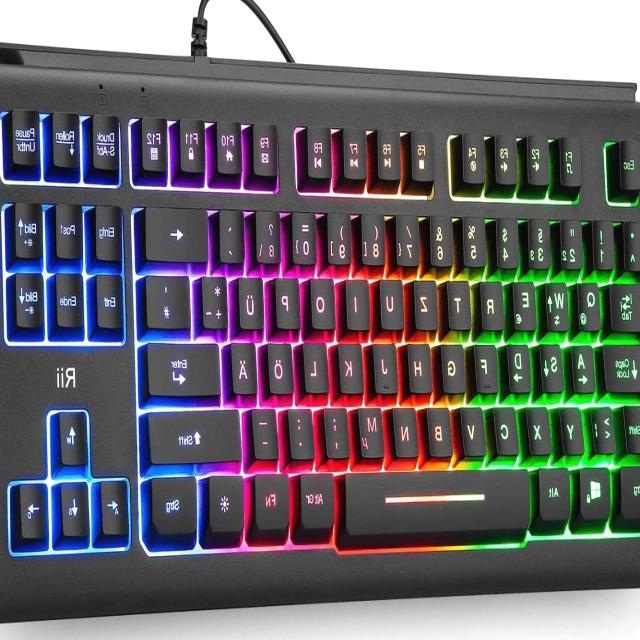0: (293, 206, 320, 264)
1: (594, 217, 616, 269)
2: (561, 214, 585, 270)
3: (528, 213, 554, 269)
4: (496, 212, 521, 268)
5: (462, 210, 488, 266)
6: (430, 210, 456, 266)
7: (397, 208, 423, 266)
8: (362, 207, 389, 265)
9: (328, 206, 355, 264)
a: (573, 339, 597, 391)
accent: (220, 203, 247, 261)
ae: (232, 337, 259, 393)
alt-left: (540, 462, 573, 520)
altgr-right: (302, 466, 338, 528)
b: (428, 401, 455, 454)
c: (495, 401, 521, 453)
caret: (625, 217, 640, 270)
comma: (325, 402, 352, 456)
d: (508, 340, 534, 392)
del: (145, 203, 213, 261)
e: (515, 277, 539, 330)
enter: (148, 338, 224, 396)
f: (476, 340, 500, 392)
g: (443, 339, 468, 392)
h: (409, 338, 435, 391)
hash: (147, 270, 193, 329)
i: (347, 273, 373, 327)
j: (374, 337, 400, 392)
k: (340, 337, 366, 392)
keyboard: (0, 38, 640, 630)
l: (305, 336, 331, 391)
less: (593, 401, 618, 451)
m: (360, 401, 388, 457)
minus: (253, 403, 281, 457)
n: (395, 401, 422, 455)
o: (312, 273, 338, 327)
oe: (269, 338, 296, 393)
p: (277, 272, 303, 327)
plus: (204, 271, 231, 327)
point: (290, 402, 316, 457)
q: (579, 278, 603, 330)
r: (482, 276, 506, 329)
s: (541, 339, 566, 391)
shift-left: (625, 399, 640, 451)
shift-lock: (604, 339, 640, 391)
shift-right: (149, 404, 243, 463)
space: (345, 461, 533, 536)
ss: (257, 205, 284, 264)
strg-left: (622, 460, 640, 518)
strg-right: (151, 471, 200, 536)
t: (449, 275, 473, 328)
tab: (610, 279, 640, 331)
u: (381, 274, 407, 329)
ue: (239, 271, 267, 329)
v: (462, 401, 488, 454)
w: (547, 277, 571, 330)
x: (528, 402, 554, 452)
y: (562, 402, 587, 452)
z: (415, 275, 440, 329)
